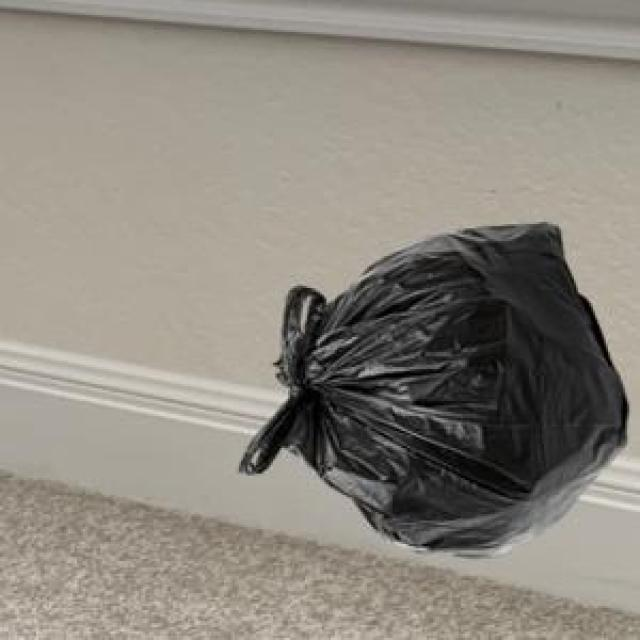Vinyl: (244, 220, 624, 558)
